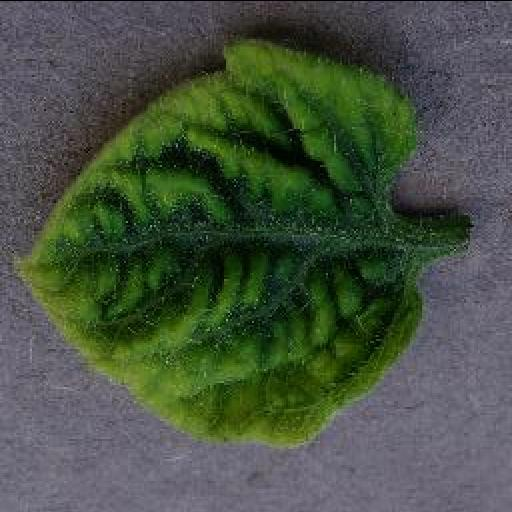disease_tomato: (21, 34, 427, 448)
